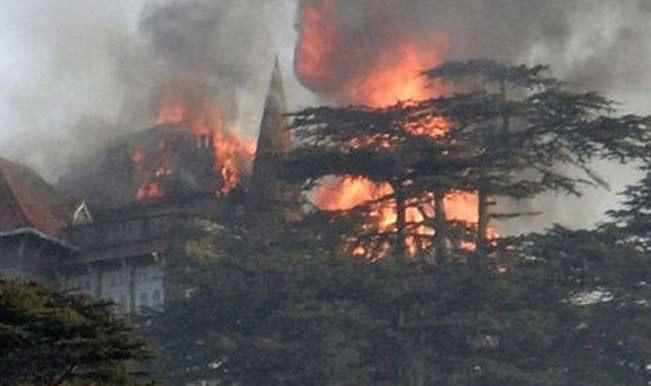fire: (302, 6, 442, 108), (316, 175, 486, 236), (174, 92, 251, 190)
smoke: (11, 14, 158, 190), (462, 12, 651, 110), (170, 14, 302, 100)
